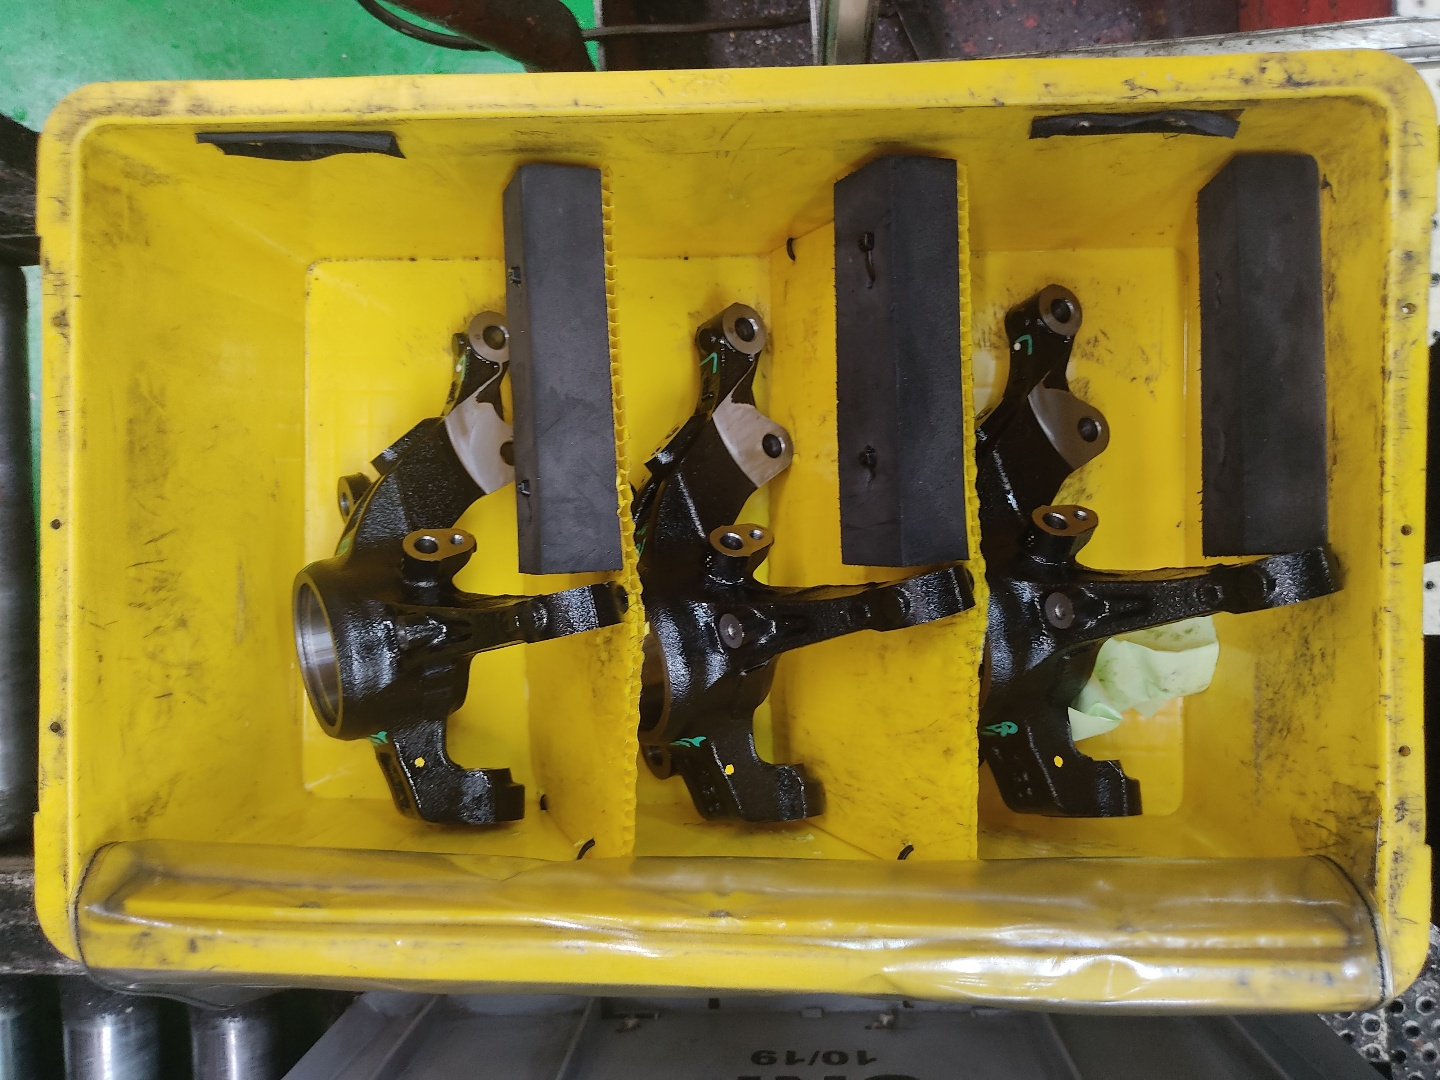abs-lh: (979, 275, 1352, 825), (626, 299, 979, 825), (285, 302, 628, 832)
